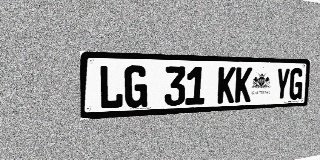1: (185, 66, 206, 105)
3: (164, 66, 186, 106)
G: (124, 65, 148, 108), (288, 68, 304, 100)
K: (217, 67, 236, 104), (234, 67, 252, 103)
L: (99, 65, 124, 109)
Y: (274, 68, 290, 101)
